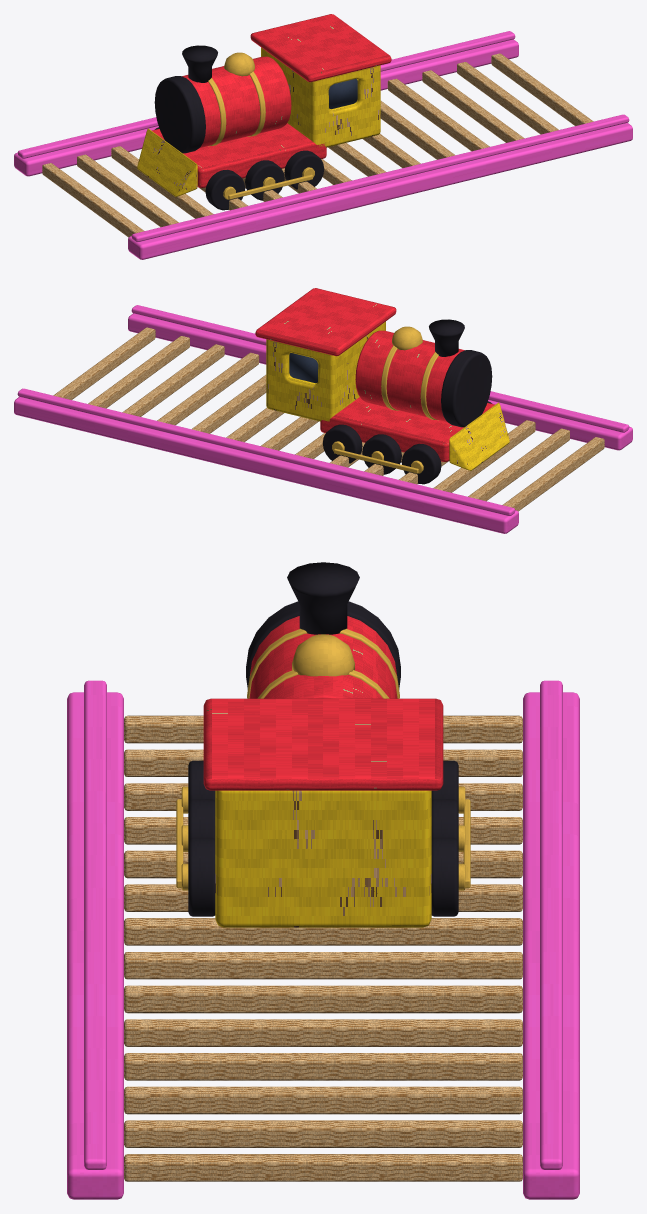
The model's file is p_toytrain.glb.
3 renders of one model, top to bottom at view 1: azimuth 30°, elevation 25°; view 2: azimuth 150°, elevation 25°; view 3: azimuth 270°, elevation 25°, orthographic. The views are drawn at different scales.
Parts seen in each view (by area): view 1: p_toytrain_lod0; view 2: p_toytrain_lod0; view 3: p_toytrain_lod0.
Boxes of the visible parts, x1,y1,x2,y2 form: p_toytrain_lod0: (14, 14, 632, 259); p_toytrain_lod0: (14, 288, 632, 533); p_toytrain_lod0: (67, 562, 579, 1199).
Size of what is drawn, in the model's own units: 200 by 51 by 90.
1 material, 1 textured.
